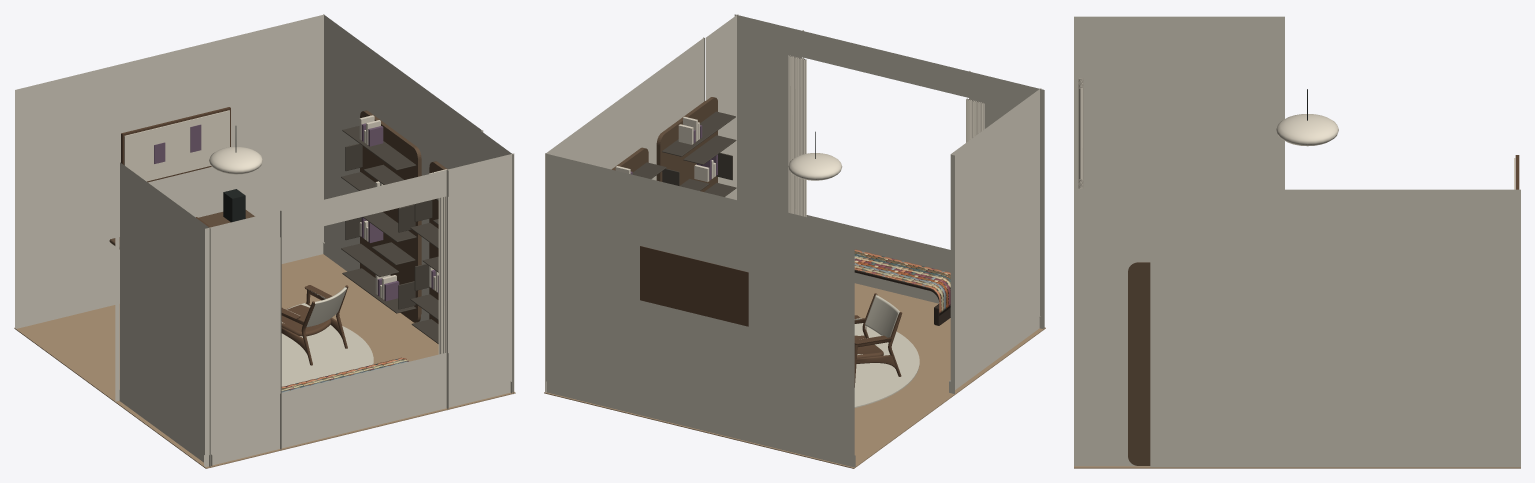
Rendered from formal-3.glb.
The picture shows the model from 3 angles, left to right: view 1: azimuth 30°, elevation 25°; view 2: azimuth 150°, elevation 25°; view 3: azimuth 270°, elevation 25°; orthographic projection. The views are drawn at different scales.
Parts seen in each view (by area): view 1: DESIGN | formal removable wall finish, DESIGN | formal floor finish, DESIGN | Required Blabla bookcase 2, DESIGN | Textile artwork, DESIGN | Formal ground, DESIGN | Required Blabla bookcase 1, DESIGN | Listening chair two, DESIGN | Formal soft window edge.001, DESIGN | Library shaded light shade, DESIGN | Required Brera anniversary window bench, DESIGN | Quiet artwork frame, DESIGN | Compact speaker.001; view 2: DESIGN | formal removable wall finish, DESIGN | formal floor finish, DESIGN | Quiet artwork frame, DESIGN | Required Blabla bookcase 1, DESIGN | Formal ground, DESIGN | Required Brera anniversary window bench, DESIGN | Formal soft window edge.001, DESIGN | Listening chair one, DESIGN | Library shaded light shade, DESIGN | Required Blabla bookcase 2, DESIGN | Formal soft window edge; view 3: DESIGN | formal removable wall finish, DESIGN | Required Blabla bookcase 1, DESIGN | Library shaded light shade, DESIGN | formal floor finish, DESIGN | Formal soft window edge.
Part boxes in pixels (left/top/right/bottom): DESIGN | formal removable wall finish: left=15, top=14, right=514, bottom=466; DESIGN | formal floor finish: left=14, top=254, right=515, bottom=468; DESIGN | Required Blabla bookcase 2: left=341, top=110, right=421, bottom=322; DESIGN | Textile artwork: left=124, top=110, right=229, bottom=181; DESIGN | Formal ground: left=281, top=325, right=373, bottom=386; DESIGN | Required Blabla bookcase 1: left=410, top=161, right=447, bottom=343; DESIGN | Listening chair two: left=281, top=285, right=348, bottom=365; DESIGN | Formal soft window edge.001: left=438, top=196, right=446, bottom=354; DESIGN | Library shaded light shade: left=209, top=146, right=262, bottom=174; DESIGN | Required Brera anniversary window bench: left=281, top=357, right=409, bottom=392; DESIGN | Quiet artwork frame: left=121, top=107, right=230, bottom=182; DESIGN | Compact speaker.001: left=223, top=189, right=245, bottom=222; DESIGN | formal removable wall finish: left=545, top=14, right=1044, bottom=467; DESIGN | formal floor finish: left=544, top=283, right=1045, bottom=468; DESIGN | Quiet artwork frame: left=640, top=246, right=748, bottom=326; DESIGN | Required Blabla bookcase 1: left=656, top=97, right=736, bottom=196; DESIGN | Formal ground: left=854, top=318, right=919, bottom=407; DESIGN | Required Brera anniversary window bench: left=854, top=249, right=950, bottom=325; DESIGN | Formal soft window edge.001: left=788, top=55, right=806, bottom=216; DESIGN | Listening chair one: left=854, top=293, right=902, bottom=387; DESIGN | Library shaded light shade: left=788, top=153, right=842, bottom=180; DESIGN | Required Blabla bookcase 2: left=611, top=147, right=666, bottom=178; DESIGN | Formal soft window edge: left=966, top=98, right=984, bottom=142; DESIGN | formal removable wall finish: left=1074, top=16, right=1520, bottom=467; DESIGN | Required Blabla bookcase 1: left=1128, top=262, right=1150, bottom=465; DESIGN | Library shaded light shade: left=1276, top=114, right=1338, bottom=146; DESIGN | formal floor finish: left=1074, top=466, right=1520, bottom=468; DESIGN | Formal soft window edge: left=1078, top=78, right=1083, bottom=181.
Bounding box in the file's own units: 3.71 × 2.74 × 3.98.
